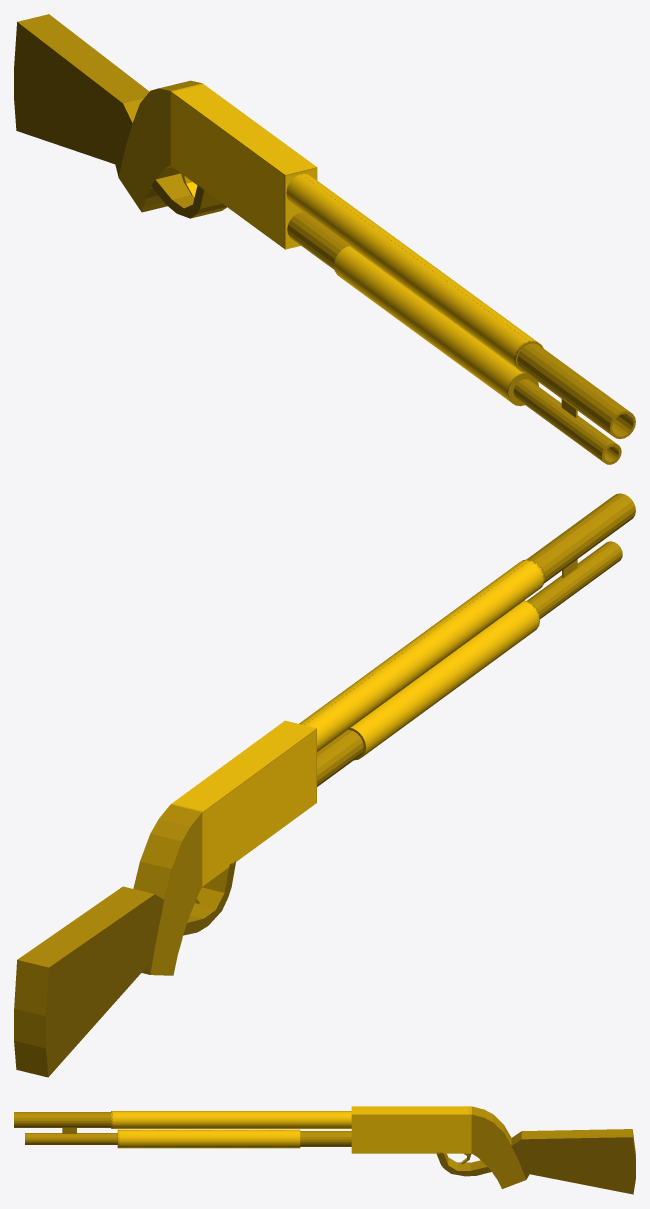
The model's file is gun2.fbx.
3 renders of one model, top to bottom at view 1: azimuth 30°, elevation 25°; view 2: azimuth 150°, elevation 25°; view 3: azimuth 270°, elevation 25°, orthographic. The views are drawn at different scales.
Visible parts, largest first — view 1: Box001, Cylinder001, Cylinder002; view 2: Box001, Cylinder001, Cylinder002; view 3: Box001, Cylinder001, Cylinder002.
Part boxes in pixels (left/top/right/bottom): Box001: left=14, top=14, right=317, bottom=249; Cylinder001: left=286, top=174, right=635, bottom=438; Cylinder002: left=287, top=212, right=621, bottom=464; Box001: left=14, top=720, right=316, bottom=1077; Cylinder001: left=299, top=493, right=635, bottom=751; Cylinder002: left=317, top=541, right=622, bottom=786; Box001: left=351, top=1106, right=635, bottom=1194; Cylinder001: left=14, top=1111, right=351, bottom=1133; Cylinder002: left=25, top=1129, right=351, bottom=1148.
Bounding box in the file's own units: 14.24 × 454 × 64.4.
1 material, 1 textured.
